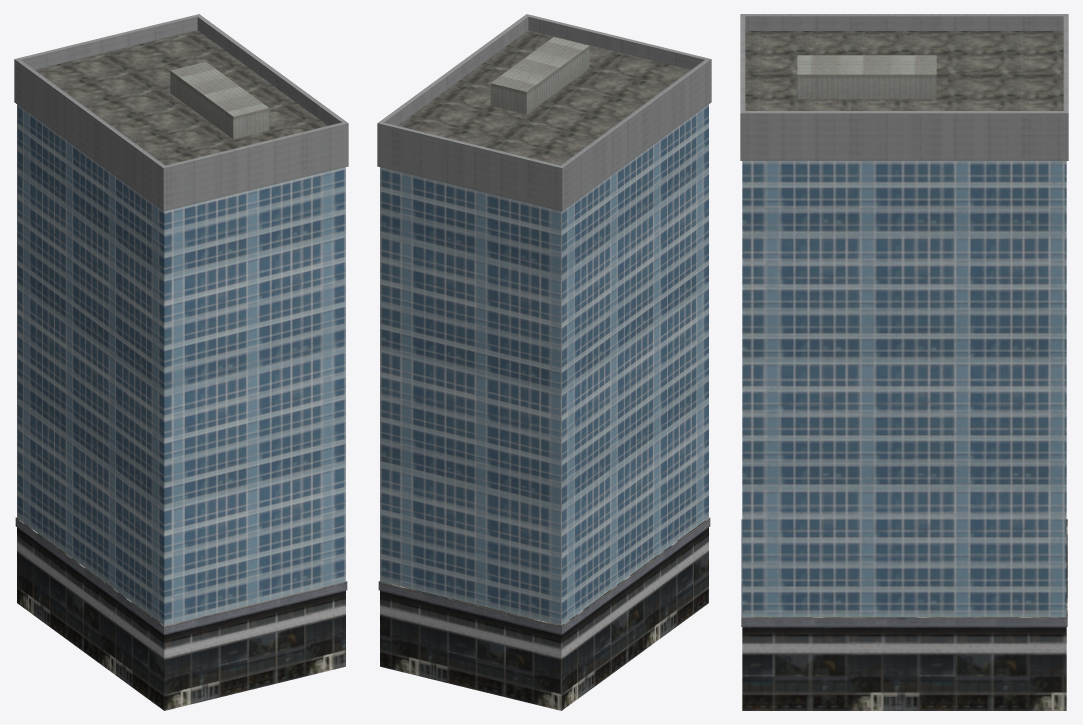
The model's file is building_11.obj.
3 renders of one model, left to right at view 1: azimuth 30°, elevation 25°; view 2: azimuth 150°, elevation 25°; view 3: azimuth 270°, elevation 25°, orthographic. The views are drawn at different scales.
Parts seen in each view (by area): view 1: BakedBuilding_275; view 2: BakedBuilding_275; view 3: BakedBuilding_275.
Boxes of the visible parts, box(x1,y1,x2,y2) form: BakedBuilding_275: box(14, 14, 348, 710); BakedBuilding_275: box(377, 14, 711, 710); BakedBuilding_275: box(740, 14, 1068, 710).
Bounding box in the file's own units: 89.37 × 255 × 125.
